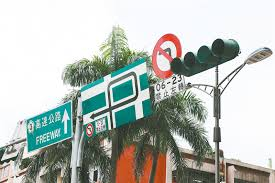No_left_turn: (151, 33, 181, 80)
